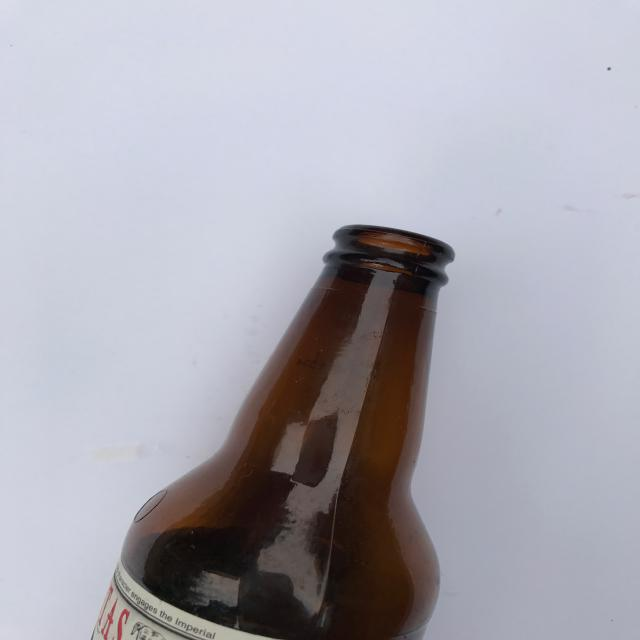Glass: (79, 203, 472, 640)
